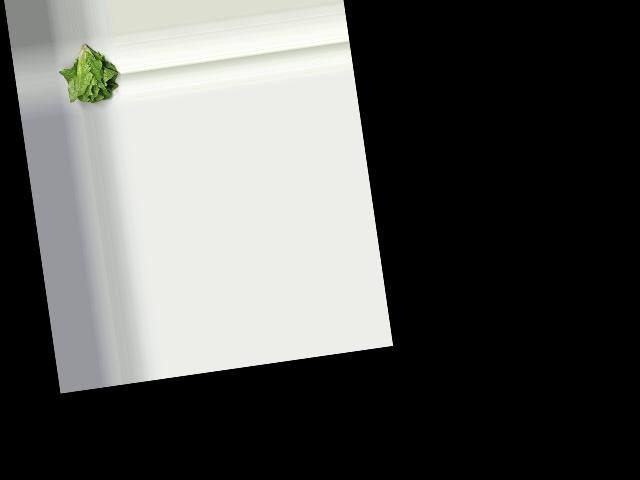lettuce: (61, 37, 121, 109)
